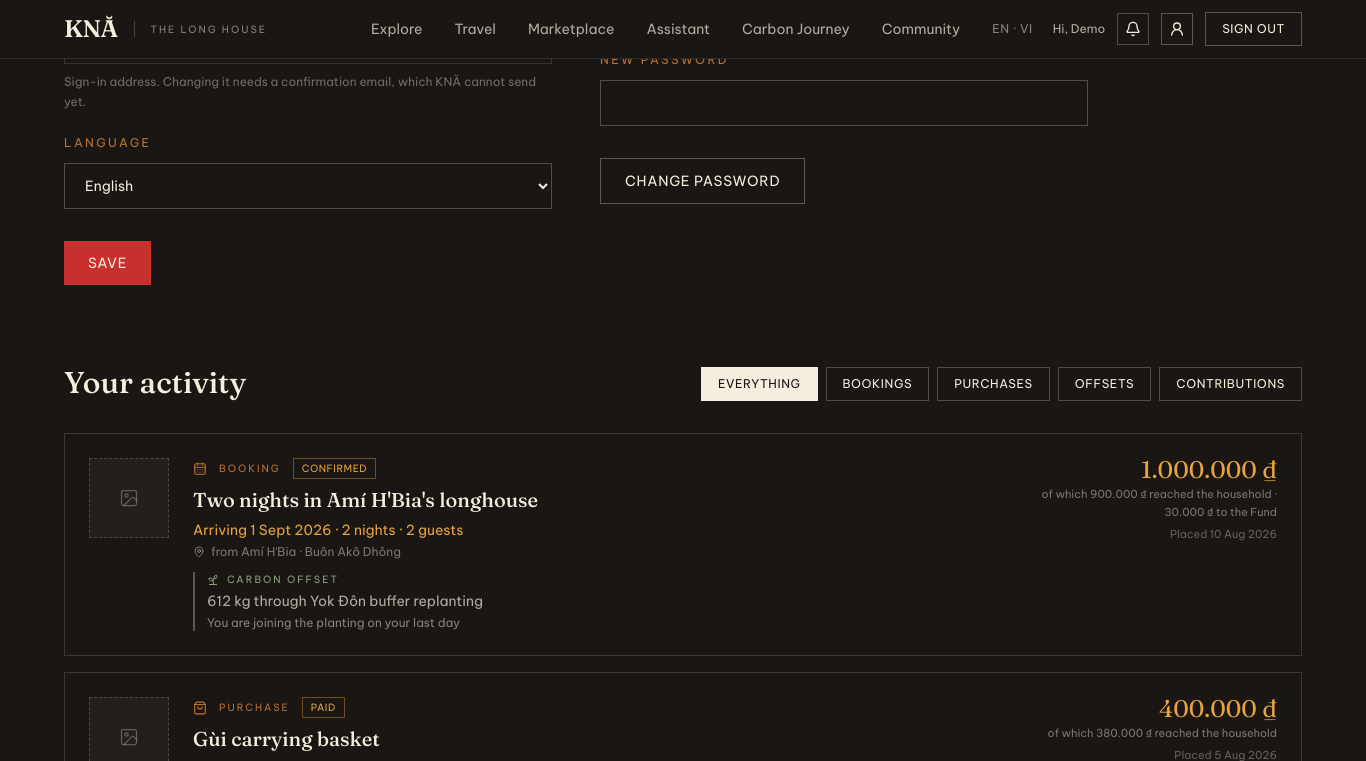
Test: Account › filters the timeline without refetching
(page scrolled)
Expected: the heading "Two nights in Amí H'Bia's longhouse" is shown, [193, 487, 538, 512]
Click the button "Purchases" at (994, 384), box [937, 367, 1050, 401]
(page scrolled)
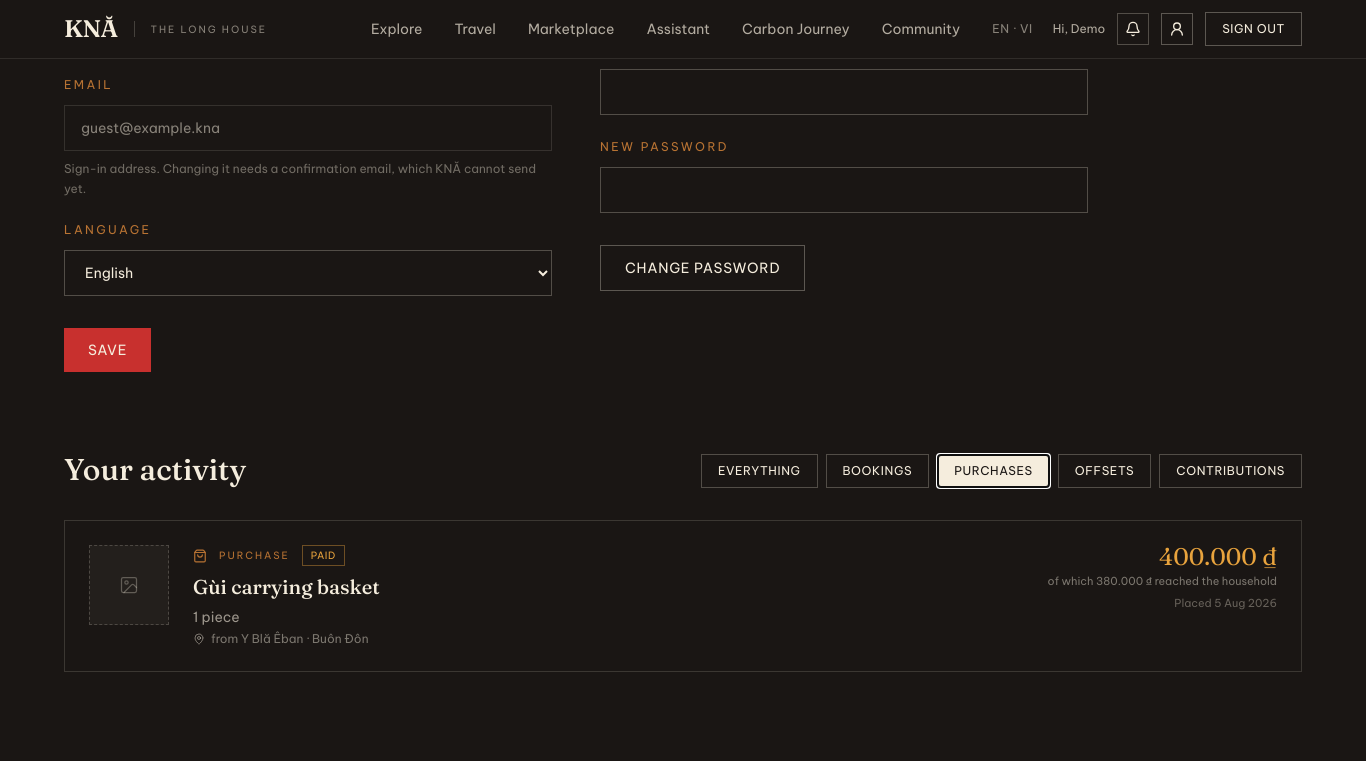
Expected: the heading "Gùi carrying basket" is shown, [193, 574, 380, 599]
Result: the heading "Two nights in Amí H'Bia" is gone
